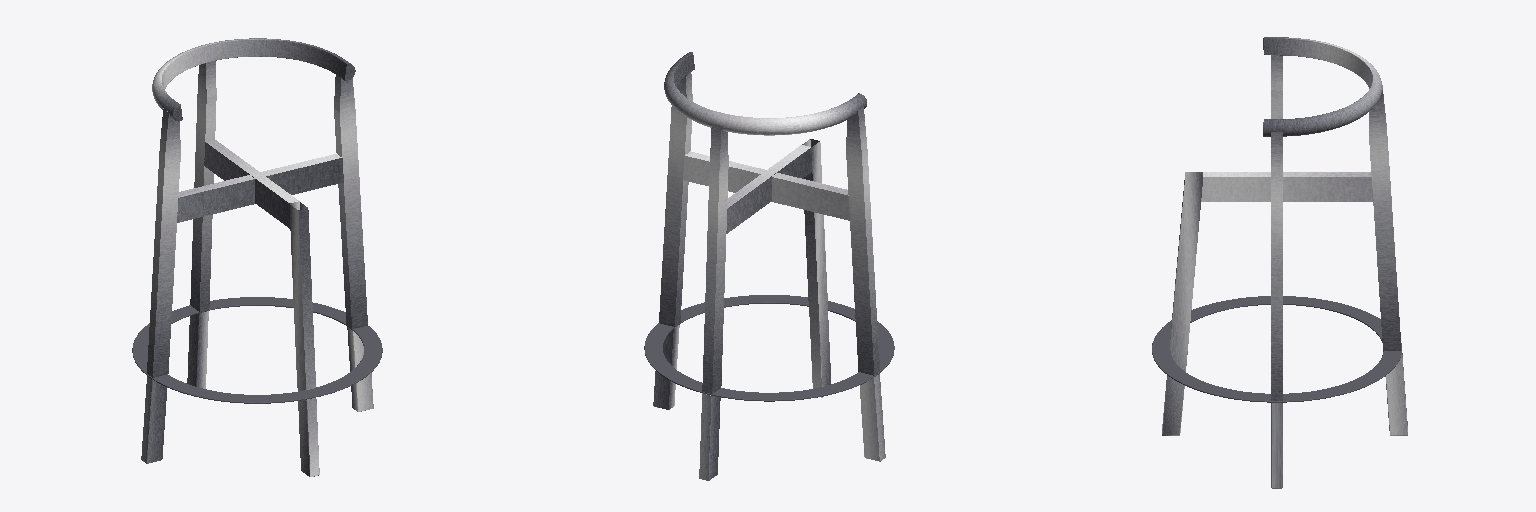
3 views of the same model, side by side, from view 1: azimuth 30°, elevation 25°; view 2: azimuth 150°, elevation 25°; view 3: azimuth 270°, elevation 25° (orthographic).
Visible parts, largest first — view 1: Cylinder_001_Cylinder_002; view 2: Cylinder_001_Cylinder_002; view 3: Cylinder_001_Cylinder_002.
Part boxes in pixels (x1,y1,x2,y2): Cylinder_001_Cylinder_002: (132,38,382,476); Cylinder_001_Cylinder_002: (644,52,894,480); Cylinder_001_Cylinder_002: (1152,37,1407,488).
Size of the model in its own units: 0.5698 by 0.8499 by 0.5568.
Materials: 1 (1 with a texture image).